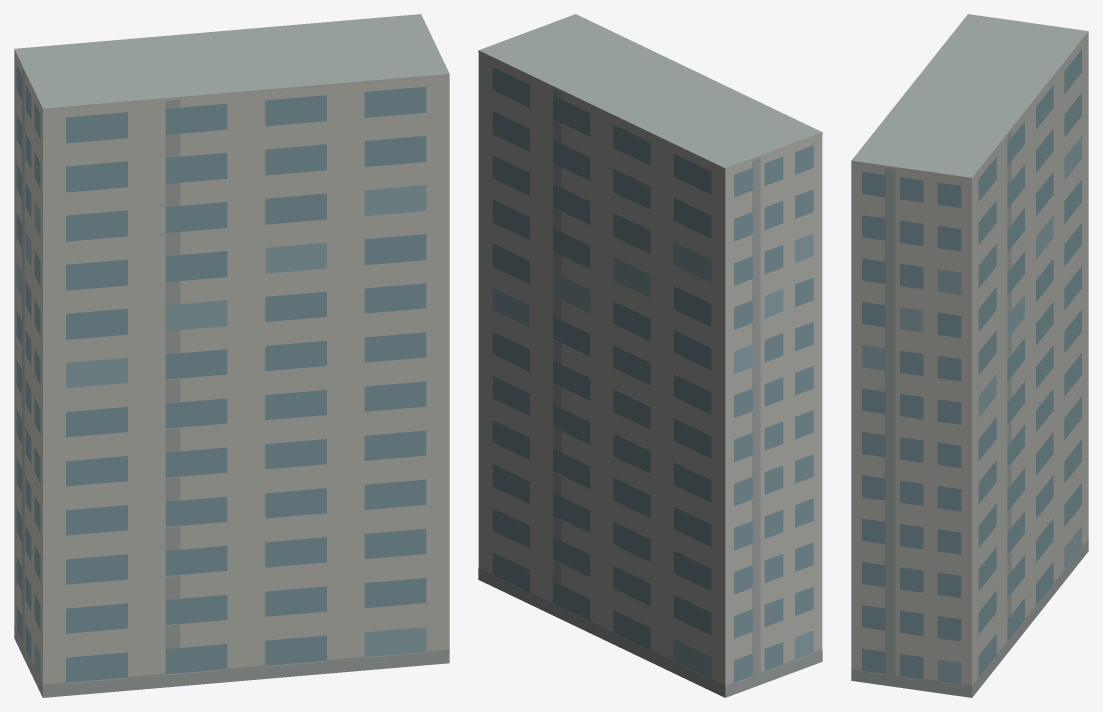
Rendered from residential-f3c1997a-a640-41b8-a505-1941260d51b3.glb.
3 views of the same model, side by side, from view 1: azimuth 30°, elevation 25°; view 2: azimuth 150°, elevation 25°; view 3: azimuth 270°, elevation 25° (orthographic). The views are drawn at different scales.
Visible parts, largest first — view 1: residential-f3c1997a-a640-41b8-a505-1941260d51b3.tmp; view 2: residential-f3c1997a-a640-41b8-a505-1941260d51b3.tmp; view 3: residential-f3c1997a-a640-41b8-a505-1941260d51b3.tmp.
Part boxes in pixels (left/top/right/bottom): residential-f3c1997a-a640-41b8-a505-1941260d51b3.tmp: left=14, top=14, right=449, bottom=697; residential-f3c1997a-a640-41b8-a505-1941260d51b3.tmp: left=478, top=14, right=822, bottom=697; residential-f3c1997a-a640-41b8-a505-1941260d51b3.tmp: left=851, top=14, right=1088, bottom=697.
Bounding box in the file's own units: 35.14 × 52 × 21.52.
